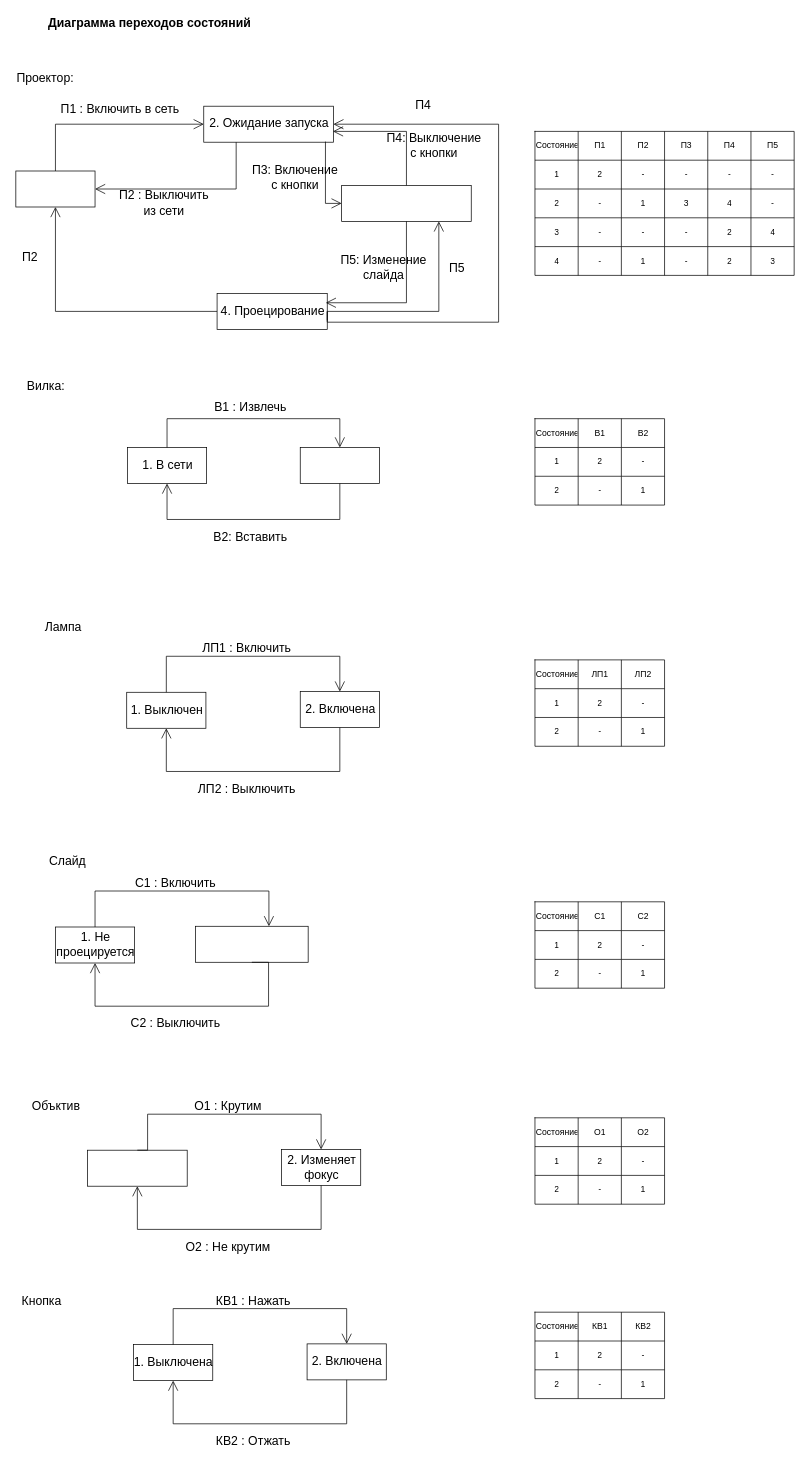
Image size: 807x1464. Some labels were removed from this diagram. Each missing label, with the box of its shape:
1. Выключено: (15, 170, 95, 207)
1. Не изменяет: (87, 1149, 187, 1186)
2. Не в сети: (300, 447, 379, 483)
2. Проецируется: (195, 926, 308, 962)
3. Устновка слайдов: (341, 185, 471, 221)
